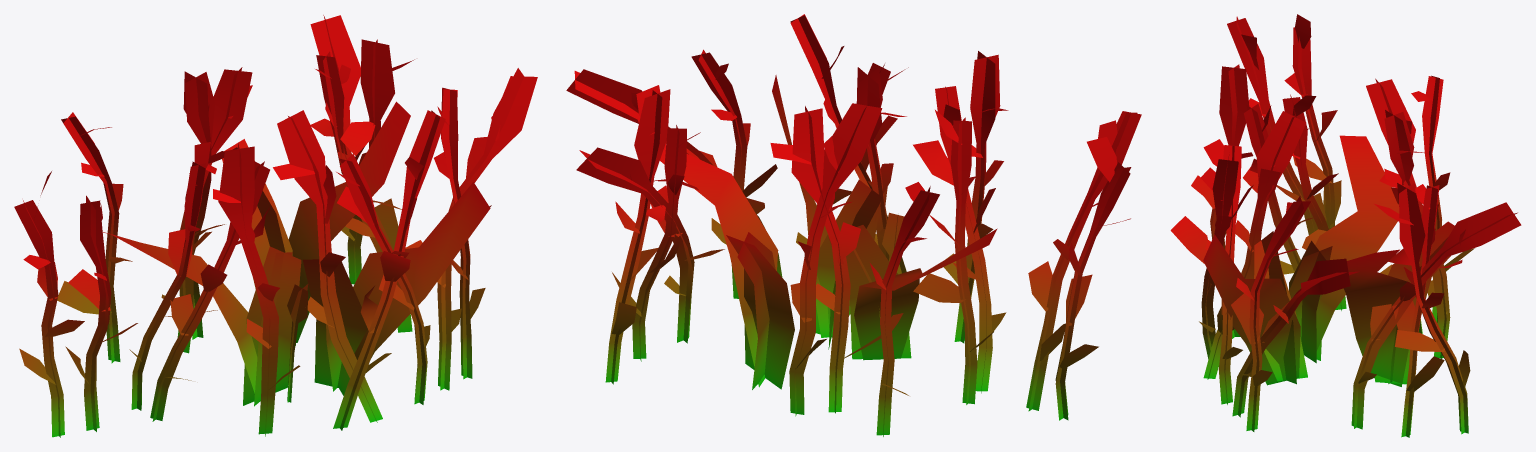
The model's file is Var3_LOD0.fbx.
3 renders of one model, left to right at view 1: azimuth 30°, elevation 25°; view 2: azimuth 150°, elevation 25°; view 3: azimuth 270°, elevation 25°, orthographic. The views are drawn at different scales.
Parts seen in each view (by area): view 1: _8617_Var3_LOD0; view 2: _8617_Var3_LOD0; view 3: _8617_Var3_LOD0.
Boxes of the visible parts, x1,y1,x2,y2 form: _8617_Var3_LOD0: (14, 15, 537, 437); _8617_Var3_LOD0: (566, 14, 1141, 436); _8617_Var3_LOD0: (1170, 14, 1521, 437).
Size of the model in its own units: 14.57 by 7.96 by 9.24.
